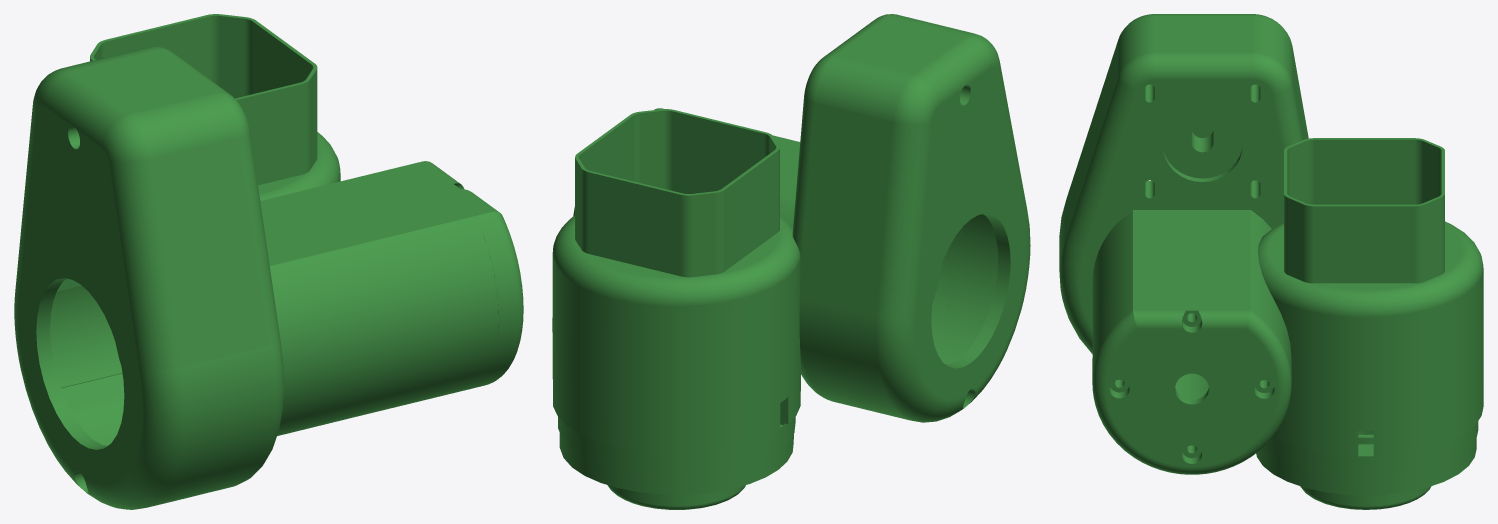
The picture shows the model from 3 angles, left to right: view 1: azimuth 30°, elevation 25°; view 2: azimuth 150°, elevation 25°; view 3: azimuth 270°, elevation 25°; orthographic projection. The views are drawn at different scales.
Parts seen in each view (by area): view 1: Body1 (×3); view 2: Body1 (×2); view 3: Body1 (×3).
Part boxes in pixels (x1,y1,x2,y2): Body1 (×3): [14, 14, 523, 509]; Body1 (×2): [552, 14, 1030, 509]; Body1 (×3): [1059, 14, 1483, 509].
Bounding box in the file's own units: 113 × 125 × 124.
